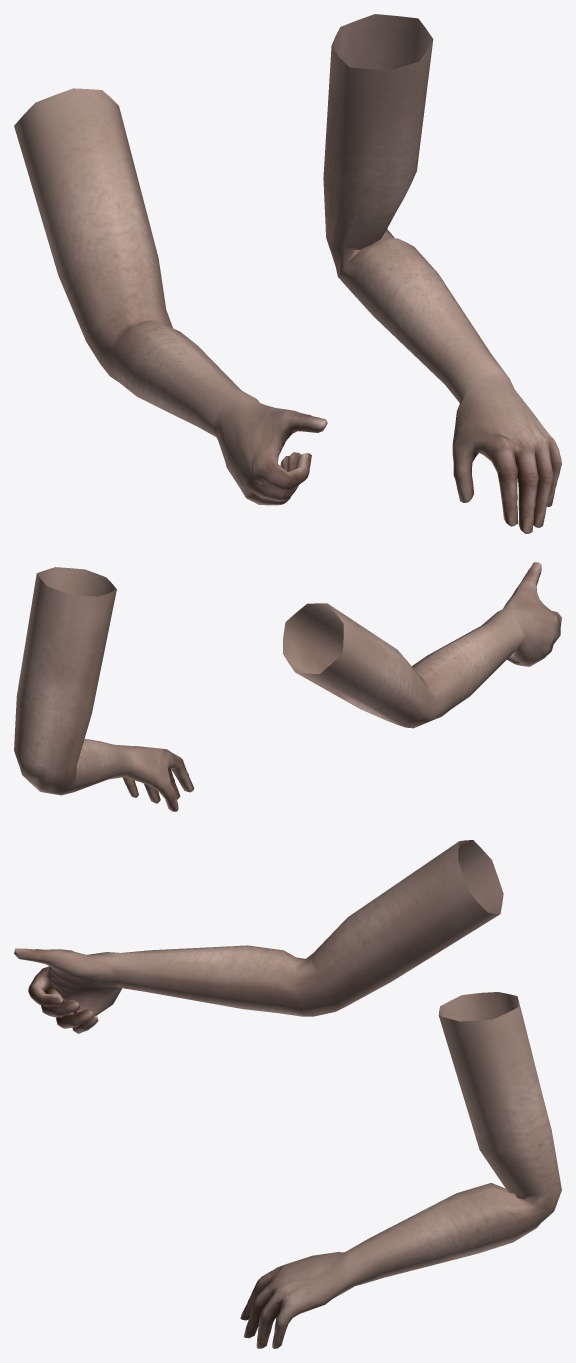
The model's file is armsflashlight.fbx.
The picture shows the model from 3 angles, top to bottom: view 1: azimuth 30°, elevation 25°; view 2: azimuth 150°, elevation 25°; view 3: azimuth 270°, elevation 25°; orthographic projection. The views are drawn at different scales.
Visible parts, largest first — view 1: arms; view 2: arms; view 3: arms.
Part boxes in pixels (box(x1,y1,x2,y2)): arms: box(14, 14, 561, 533); arms: box(14, 562, 561, 811); arms: box(14, 840, 561, 1348).
Size of the model in its own units: 57.55 by 53.41 by 72.47.
Materials: 1 (1 with a texture image).
